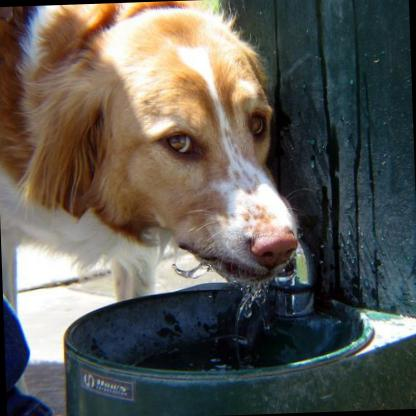Brittany_spaniel: (0, 0, 303, 303)
